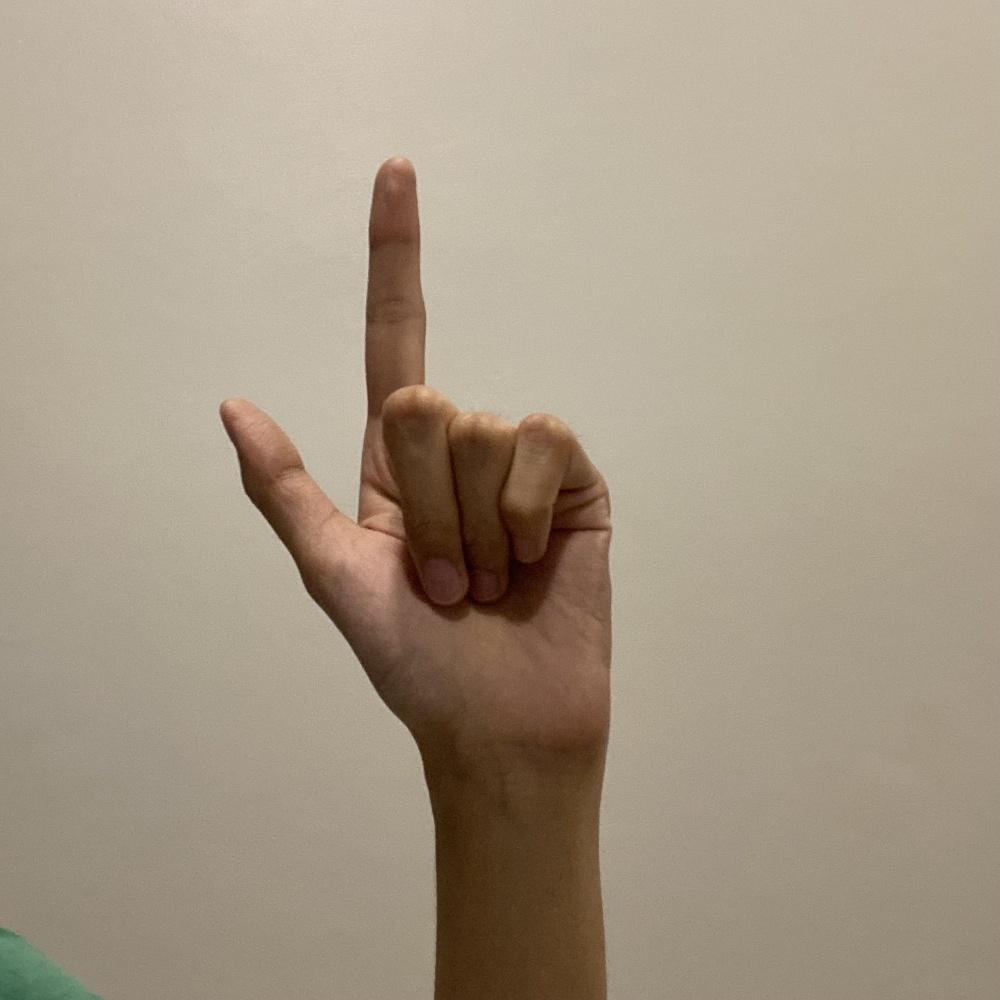l: (215, 149, 625, 759)
